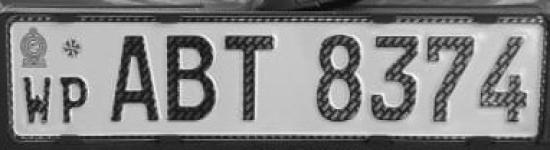3: (367, 30, 421, 125)
4: (480, 30, 533, 124)
7: (422, 30, 479, 128)
8: (314, 28, 366, 126)
A: (110, 25, 163, 127)
B: (164, 26, 220, 128)
P: (57, 74, 98, 127)
T: (219, 26, 280, 129)
W: (20, 71, 55, 130)
